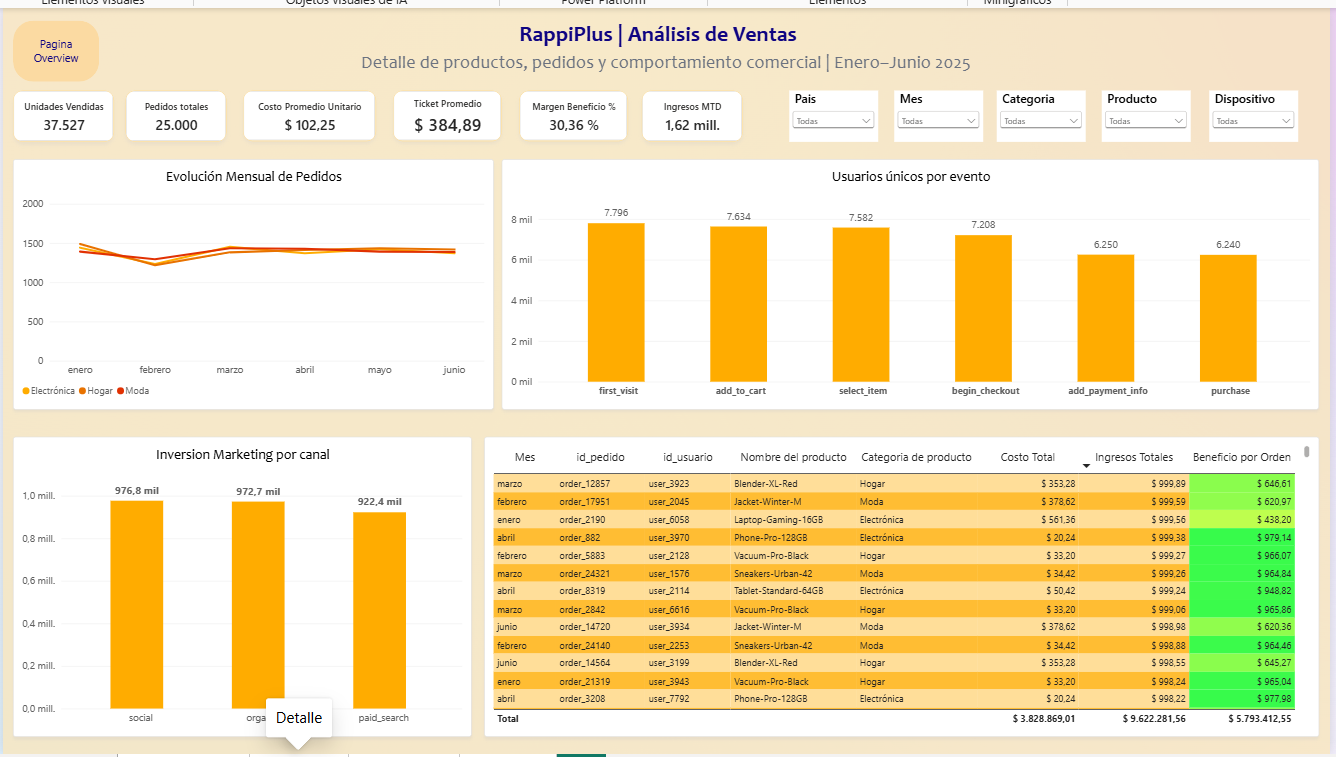

The page's visual inventory and layout, read from the dashboard file:
{"tool":"powerbi","page":{"name":"Detalle","canvas":[1920,1080],"ordinal":1},"visuals":[{"type":"textbox","box":[746.5,18.3,425.5,66],"z":0},{"type":"textbox","box":[498.9,62.4,920.8,44],"z":1000},{"type":"cardVisual","fields":{"Data":["orders_clean.Unidades Vendidas"]},"box":[14.5,119.4,146.6,74.2],"z":2000},{"type":"cardVisual","fields":{"Data":["orders_clean.Ticket Promedio"]},"box":[564.9,119.2,157.7,73.4],"z":3000},{"type":"cardVisual","fields":{"Data":["orders_clean.Pedidos totales"]},"box":[177.9,119.2,146.6,74.2],"z":4000},{"type":"cardVisual","fields":{"Data":["orders_clean.Margen Beneficio %"]},"box":[746.5,119.2,157.7,73.4],"z":5000},{"type":"cardVisual","fields":{"Data":["orders_clean.Ingresos MTD"]},"box":[924.5,119.2,146.6,74.2],"z":6000},{"type":"cardVisual","fields":{"Data":["orders_clean.Costo Promedio Unitario"]},"box":[346.7,119.2,192.6,73.4],"z":7000},{"type":"lineChart","title":"Evolución Mensual de Pedidos","fields":{"Category":["DimFecha.Date.Variación.Jerarquía de fechas.Mes"],"Series":["orders_clean.categoria_producto"],"Y":["orders_clean.Pedidos totales"]},"box":[14.4,218.2,695.7,362.3],"z":8000},{"type":"clusteredColumnChart","title":"Usuarios únicos por evento","fields":{"Category":["Orden Eventos.nombre_evento"],"Y":["events.Usuarios por etapa"]},"box":[722.5,218.2,1183.5,362.3],"z":9000},{"type":"tableEx","fields":{"Values":["DimFecha.Date.Variación.Jerarquía de fechas.Mes","orders_clean.id_pedido","orders_clean.id_usuario","orders_clean.nombre_producto","orders_clean.categoria_producto","orders_clean.Costo total","orders_clean.Ingresos Totales","orders_clean.Beneficio por Orden"]},"box":[697,620,1208.8,434.7],"z":10000},{"type":"slicer","fields":{"Values":["orders_clean.pais"]},"box":[1138.3,119.4,128.5,74.2],"z":11000},{"type":"slicer","fields":{"Values":["DimFecha.Date.Variación.Jerarquía de fechas.Mes"]},"box":[1290.6,119.4,128.5,74.2],"z":12000},{"type":"slicer","fields":{"Values":["orders_clean.categoria_producto"]},"box":[1438.8,119.4,128.5,74.2],"z":13000},{"type":"slicer","fields":{"Values":["orders_clean.nombre_producto"]},"box":[1591.1,119.4,128.5,74.2],"z":14000},{"type":"slicer","fields":{"Values":["orders_clean.dispositivo"]},"box":[1745.5,119.4,128.5,74.2],"z":15000},{"type":"clusteredColumnChart","title":"Inversión Marketing por canal","fields":{"Category":["marketing_clean.canal"],"Y":["marketing_clean.Gasto Marketing"]},"box":[14.7,620,664,434.7],"z":16000},{"type":"actionButton","box":[14.5,18.1,124.9,88.7],"z":19001}]}

Visuals, with their boxes on the page's 1920x1080 design canvas (x1, y1, x2, y2). These are canvas units, not pixel positions in the 1336x757 screenshot, which may show the page scaled, cropped or inside an application window:
textbox: [746,18,1172,84]
textbox: [499,62,1420,106]
cardVisual - orders_clean.Unidades Vendidas: [14,119,161,194]
cardVisual - orders_clean.Ticket Promedio: [565,119,723,193]
cardVisual - orders_clean.Pedidos totales: [178,119,324,193]
cardVisual - orders_clean.Margen Beneficio %: [746,119,904,193]
cardVisual - orders_clean.Ingresos MTD: [924,119,1071,193]
cardVisual - orders_clean.Costo Promedio Unitario: [347,119,539,193]
"Evolución Mensual de Pedidos" lineChart: [14,218,710,580]
"Usuarios únicos por evento" clusteredColumnChart: [722,218,1906,580]
tableEx - DimFecha.Date.Variación.Jerarquía de fechas.Mes x orders_clean.id_pedido: [697,620,1906,1055]
slicer - orders_clean.pais: [1138,119,1267,194]
slicer - DimFecha.Date.Variación.Jerarquía de fechas.Mes: [1291,119,1419,194]
slicer - orders_clean.categoria_producto: [1439,119,1567,194]
slicer - orders_clean.nombre_producto: [1591,119,1720,194]
slicer - orders_clean.dispositivo: [1746,119,1874,194]
"Inversión Marketing por canal" clusteredColumnChart: [15,620,679,1055]
actionButton: [14,18,139,107]
